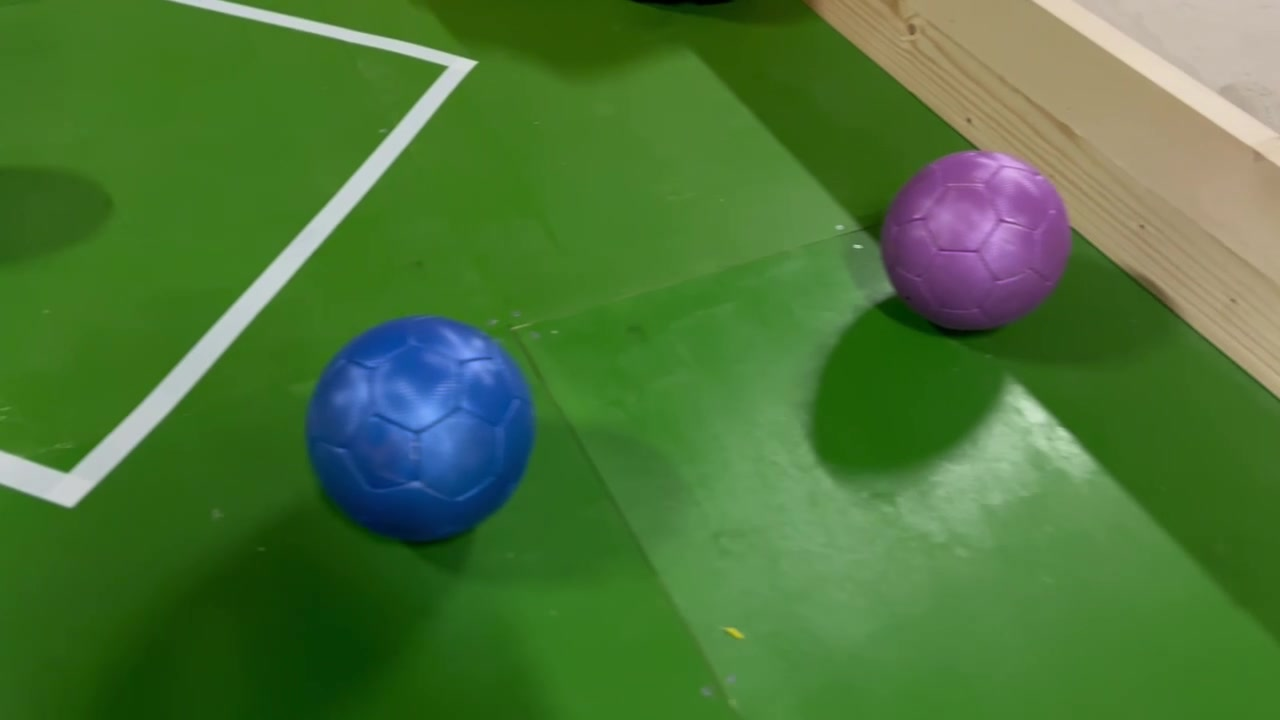blue: (303, 320, 544, 546)
